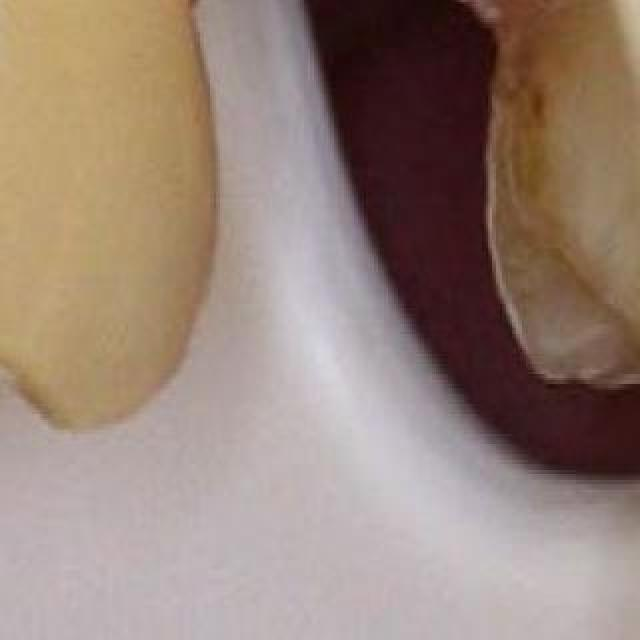missing: (134, 0, 612, 374)
